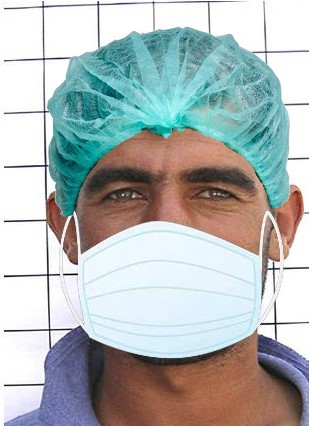with_mask_and_cap: (50, 29, 299, 363)
